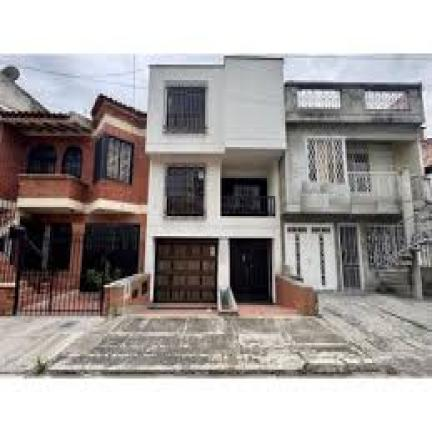casa: (145, 58, 284, 301), (279, 85, 425, 289), (0, 94, 148, 294)
